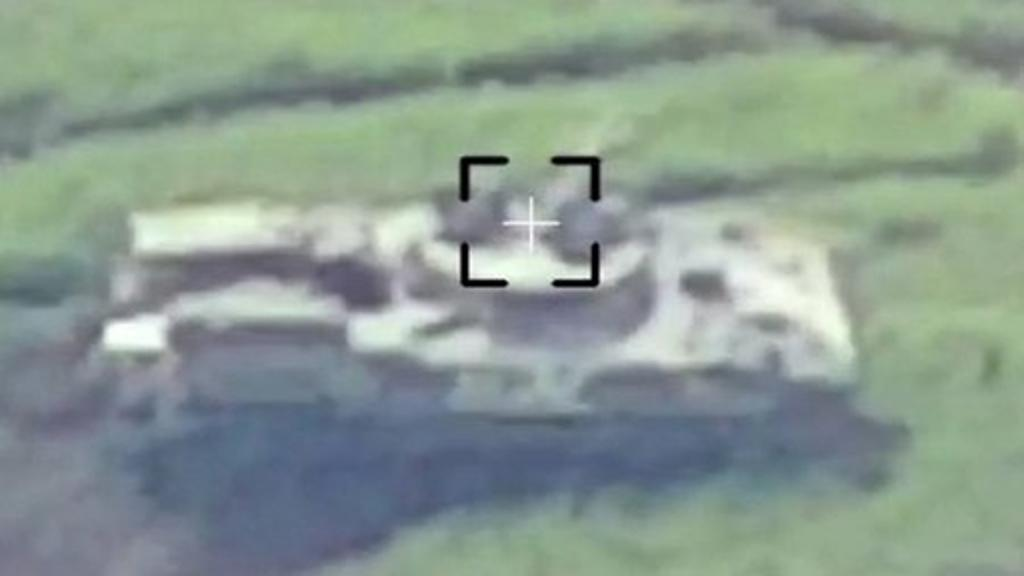APC-IFV: (98, 118, 864, 498)
